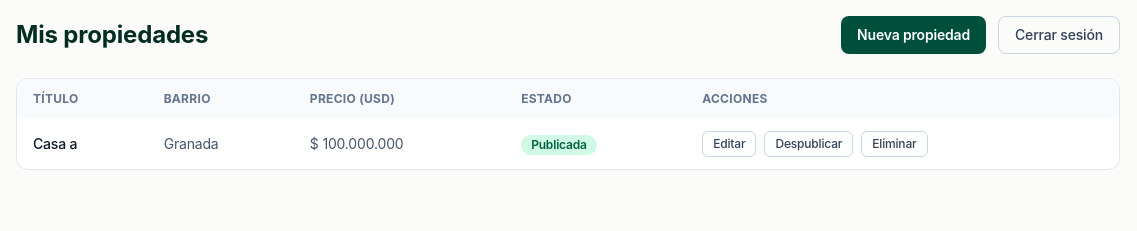
Scenario: DashboardClient › shows an error and keeps the badge when toggling fails
This screenshot has width=1137, height=231.
Expected: the text "Casa a" is shown, [33,135,77,152]
Click the button "Despublicar" at (809, 144), box [764,131,853,157]
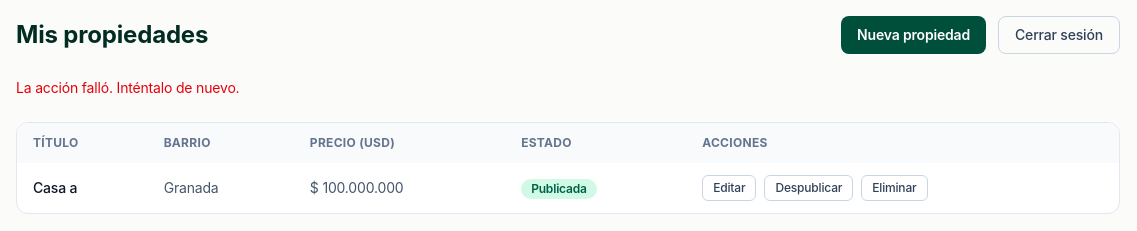
Expected: the text "Publicada" is shown, [521,178,597,198]
Expected: the message reads "La acción falló. Inténtalo de nuevo.", [16,79,240,96]
